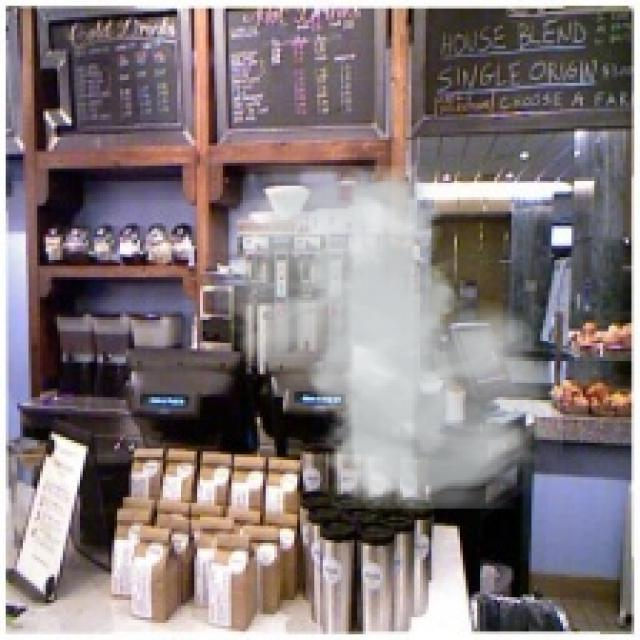Smoke: (203, 166, 563, 508)
